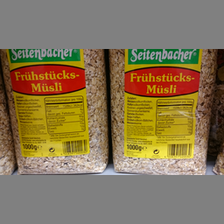cereal: (108, 49, 217, 175), (1, 50, 111, 173)
